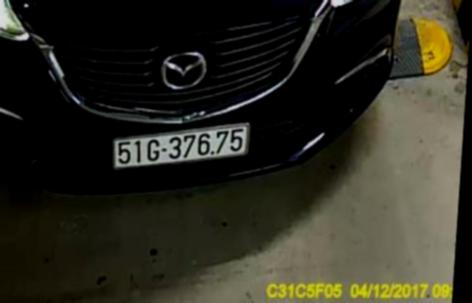License_Plate: (103, 124, 255, 170)
